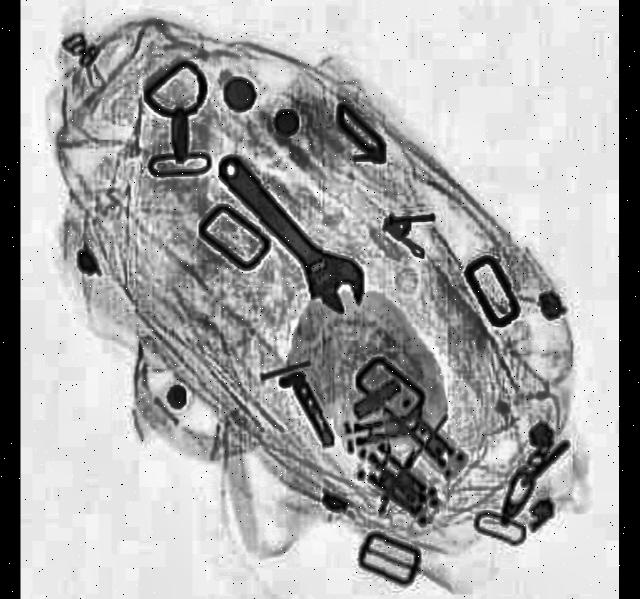Wrench: (207, 140, 378, 332)
